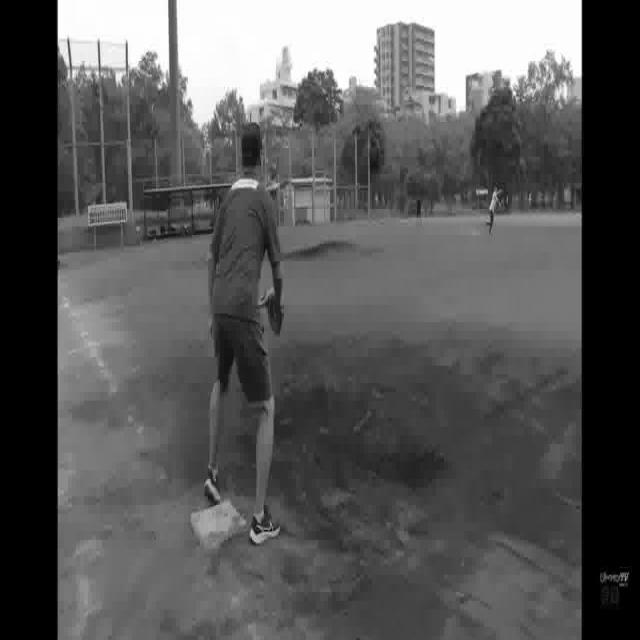base: (188, 502, 246, 547)
baseball_glove: (259, 288, 286, 336)
shoe: (250, 505, 282, 546), (203, 469, 223, 500)
